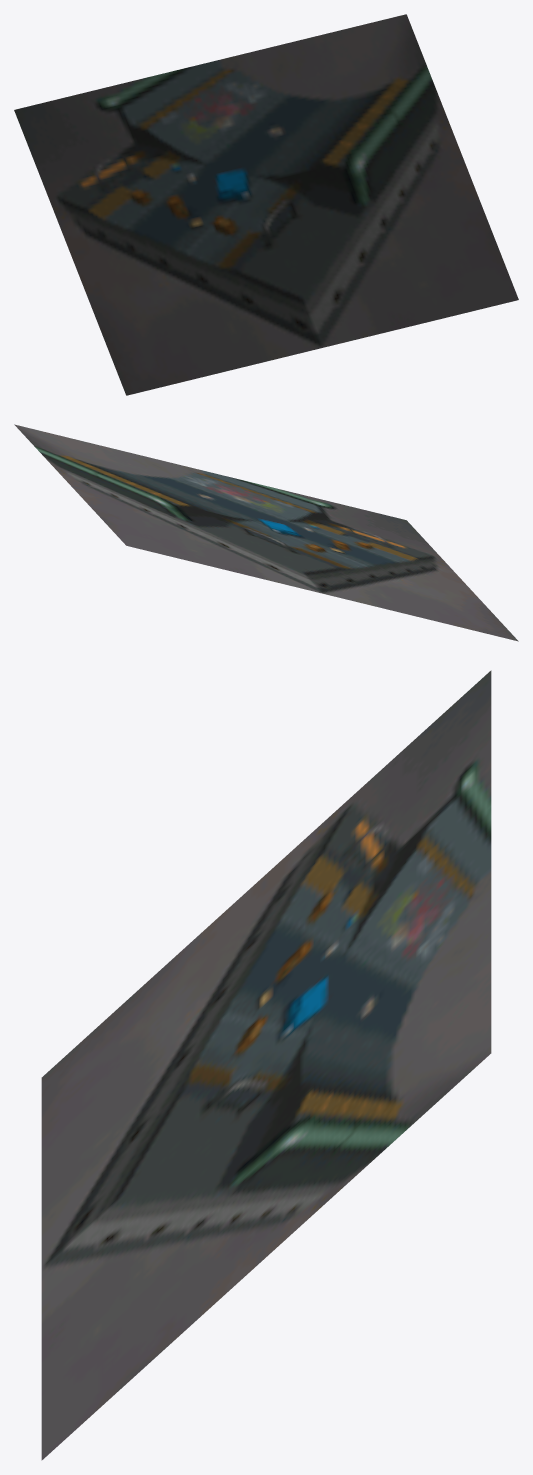
3 renders of one model, top to bottom at view 1: azimuth 30°, elevation 25°; view 2: azimuth 150°, elevation 25°; view 3: azimuth 270°, elevation 25°, orthographic. The views are drawn at different scales.
Visible parts, largest first — view 1: Joint_0_Object_0; view 2: Joint_0_Object_0; view 3: Joint_0_Object_0.
Part boxes in pixels (x1,y1,x2,y2): Joint_0_Object_0: (14, 14, 518, 395); Joint_0_Object_0: (14, 424, 518, 641); Joint_0_Object_0: (41, 670, 491, 1460).
Size of the model in its own units: 241 by 120 by 120.
Materials: 1 (1 with a texture image).
